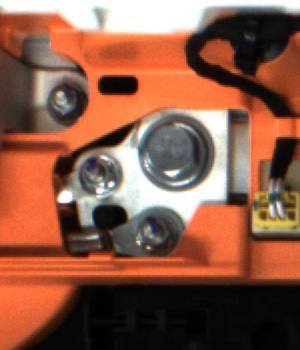screw_s: (75, 154, 123, 199), (133, 214, 183, 253), (44, 84, 81, 130)
